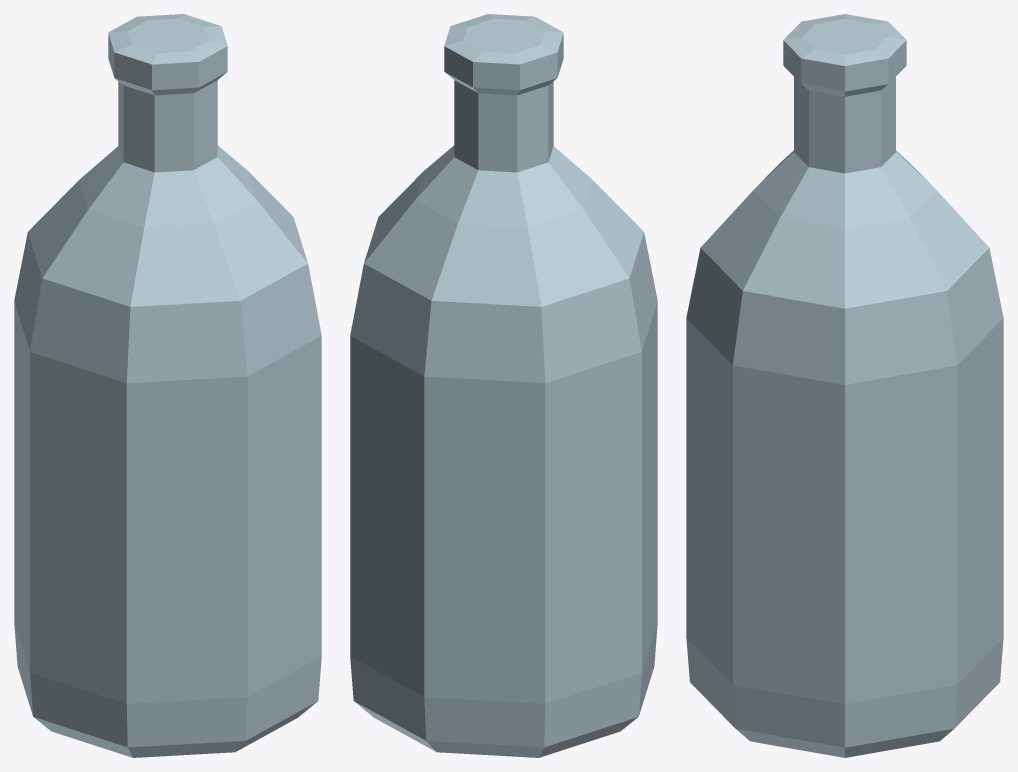
The model's file is Item_TonicBottle_AMF_T1_LOD1.glb.
3 views of the same model, side by side, from view 1: azimuth 30°, elevation 25°; view 2: azimuth 150°, elevation 25°; view 3: azimuth 270°, elevation 25° (orthographic).
Visible parts, largest first — view 1: Item_TonicBottle_AMF_T1; view 2: Item_TonicBottle_AMF_T1; view 3: Item_TonicBottle_AMF_T1.
Part boxes in pixels (x1,y1,x2,y2): Item_TonicBottle_AMF_T1: [14, 14, 321, 757]; Item_TonicBottle_AMF_T1: [350, 14, 657, 757]; Item_TonicBottle_AMF_T1: [686, 14, 1003, 757].
Size of the model in its own units: 0.09 by 0.208 by 0.09.
